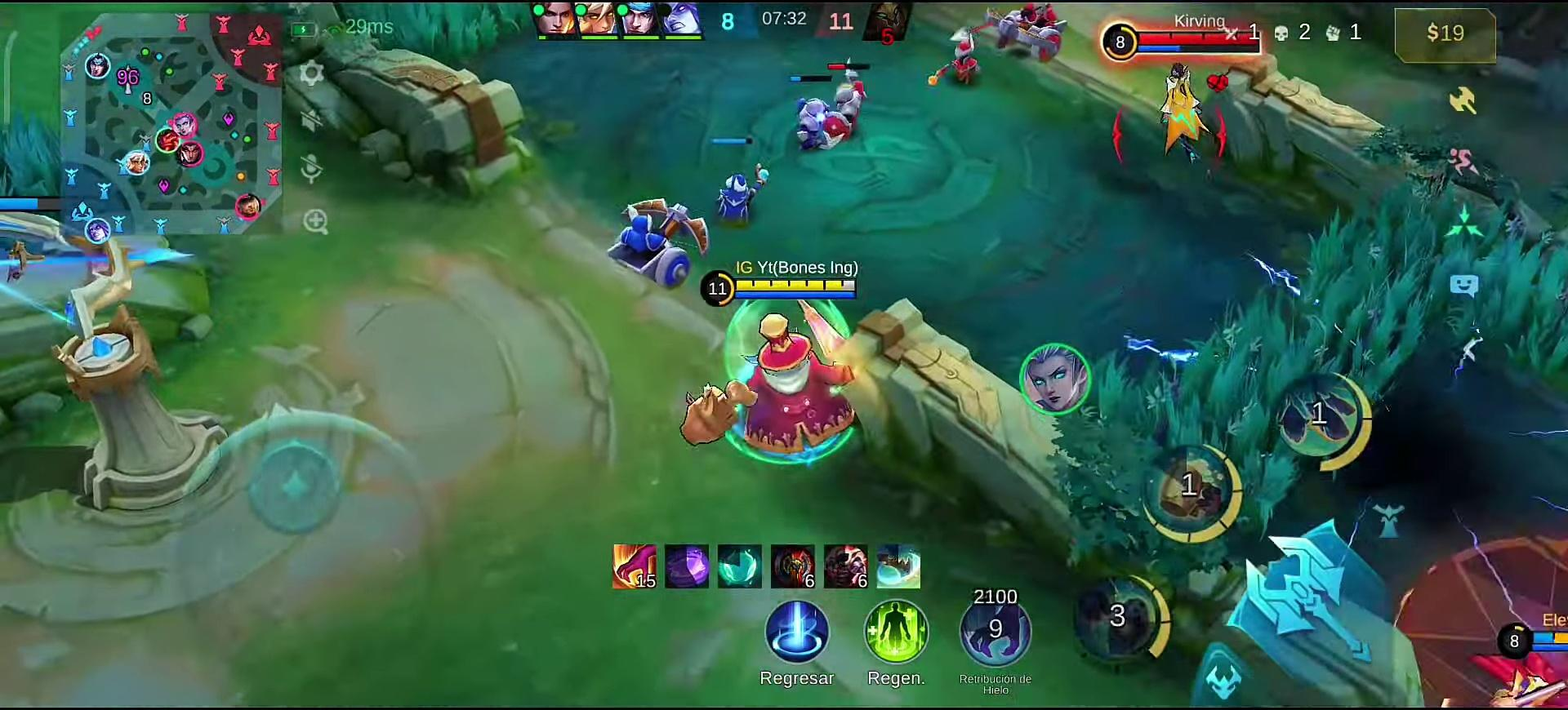Adc_Aliado: (87, 217, 114, 241)
Adc_Enemigo: (235, 194, 264, 221)
Arbusto: (1070, 204, 1568, 543), (351, 3, 538, 59), (0, 115, 64, 198)
Bane: (680, 308, 874, 457)
Esbirro_Aliado: (614, 201, 715, 283), (792, 99, 852, 150), (713, 168, 764, 225)
Esbirro_Enemigo: (990, 6, 1067, 60), (924, 28, 977, 81), (837, 79, 868, 115)
Eudora: (1145, 65, 1209, 166)
Exp_Aliado: (83, 54, 115, 81)
Exp_Enemigo: (183, 142, 204, 164)
HP_Enemigo: (1136, 33, 1252, 43)
HP_Heroe_Principal: (737, 279, 867, 289)
Jungla_Aliado: (155, 129, 181, 154)
Mana: (1136, 41, 1264, 52), (737, 291, 857, 300)
Mid_Aliado: (126, 152, 146, 174)
Mid_Enemigo: (173, 114, 196, 139)
Minimapa: (59, 11, 285, 232)
Roamer_Aliado: (176, 145, 187, 166)
Torre_Aliada: (53, 241, 217, 504)
